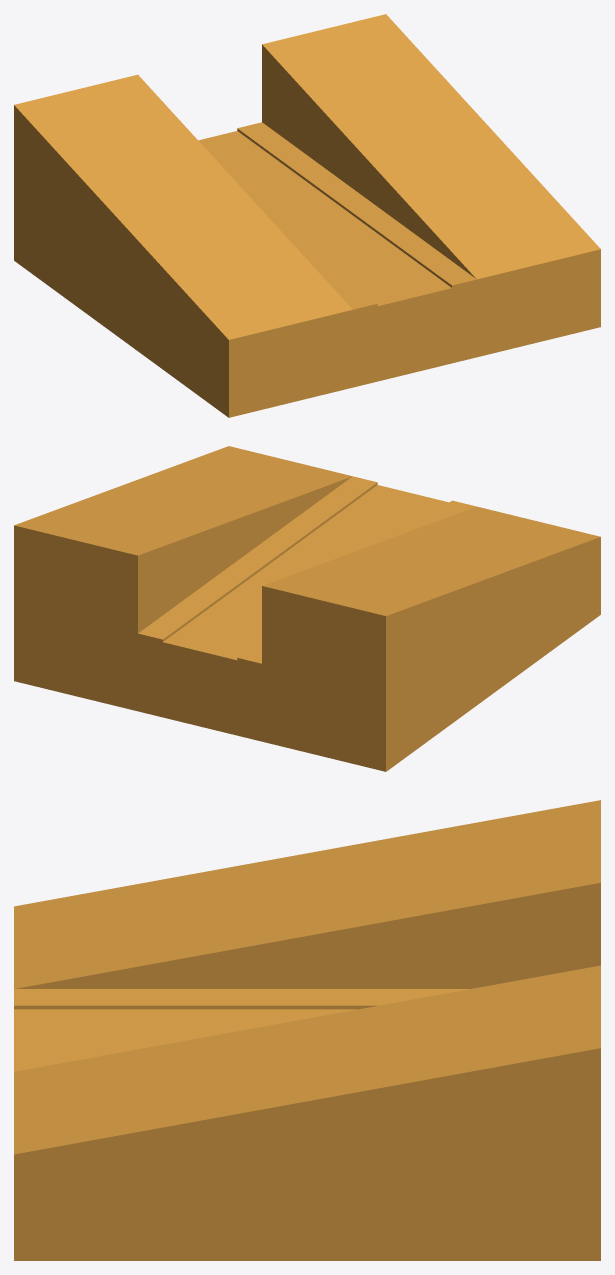
Rendered from tile-road-tunnel-entrance.glb.
3 renders of one model, top to bottom at view 1: azimuth 30°, elevation 25°; view 2: azimuth 150°, elevation 25°; view 3: azimuth 270°, elevation 25°, orthographic. The views are drawn at different scales.
Visible parts, largest first — view 1: tile-road-tunnel-entrance; view 2: tile-road-tunnel-entrance; view 3: tile-road-tunnel-entrance.
Part boxes in pixels (x1=…): tile-road-tunnel-entrance: x1=14, y1=14, x2=600, y2=417; tile-road-tunnel-entrance: x1=14, y1=446, x2=600, y2=771; tile-road-tunnel-entrance: x1=14, y1=800, x2=600, y2=1260.
Bounding box in the file's own units: 30 × 12 × 30.
